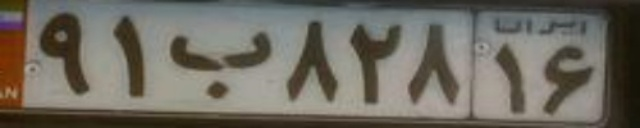1: (108, 15, 149, 98), (493, 42, 525, 115)
2: (345, 21, 403, 105)
6: (541, 46, 594, 114)
8: (408, 21, 461, 104), (287, 20, 337, 102)
9: (41, 11, 90, 94)
be: (168, 29, 272, 100)
